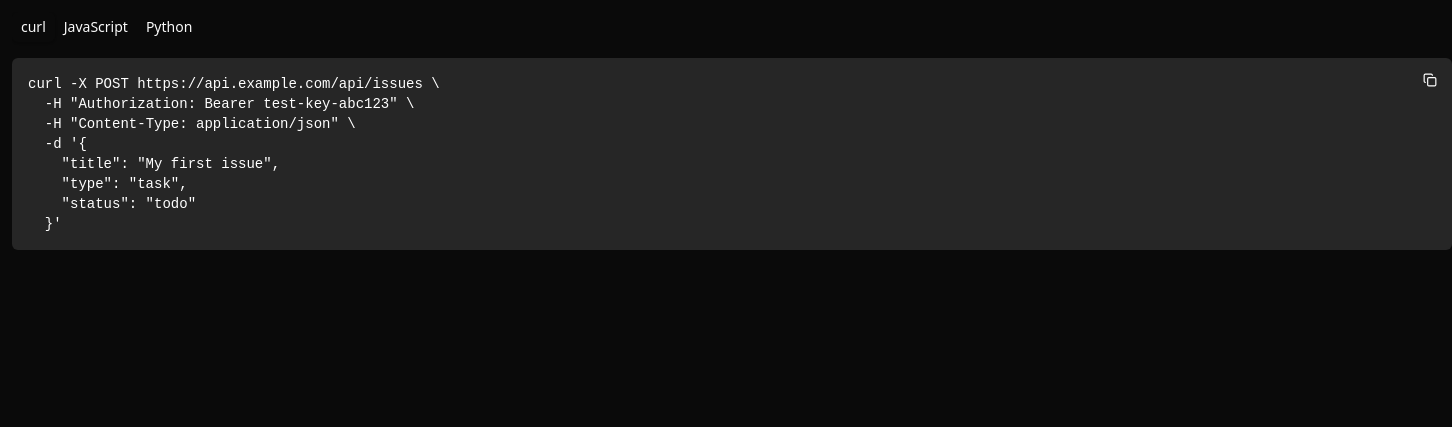
Test: SetupCodeSnippet › switches tabs and shows the correct language snippet
This screenshot has width=1452, height=427.
Expected: the panel shows "curl -X POST", [28, 76, 440, 232]
# Switch to JavaScript tab
Click the tab "JavaScript": (96, 27) [55, 12, 137, 42]
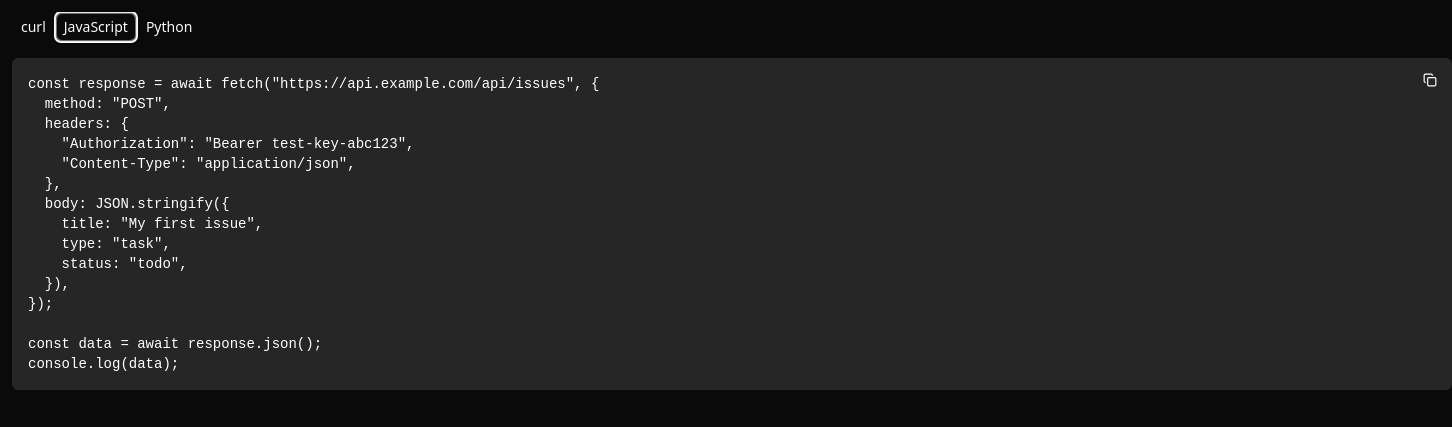
Now the panel shows "await fetch", box [28, 76, 599, 372]
# Switch to Python tab
Click the tab "Python": (169, 27) [137, 12, 201, 42]
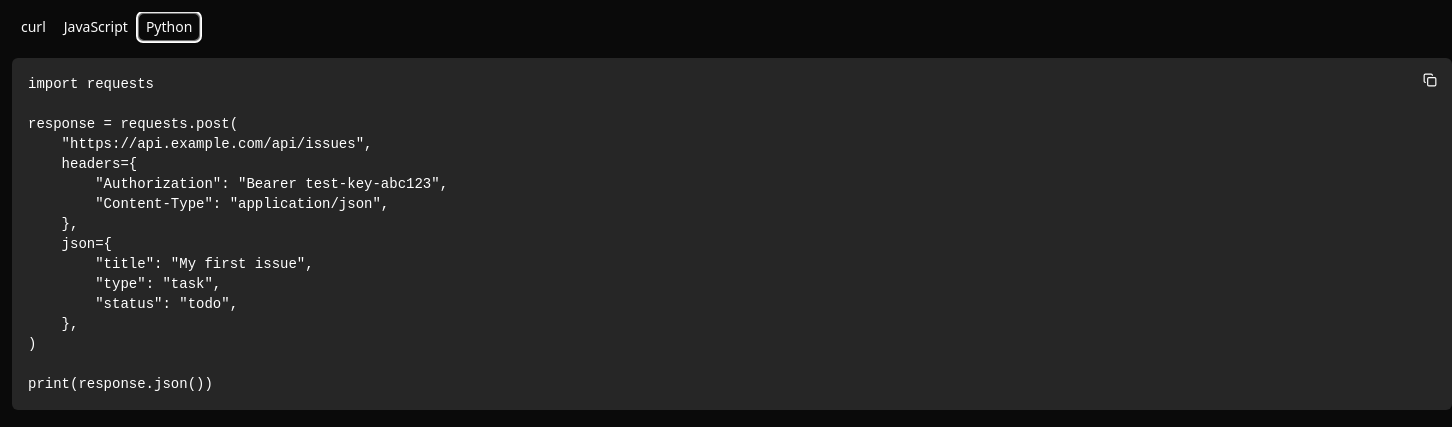
Now the panel shows "import requests", box [28, 76, 448, 392]
